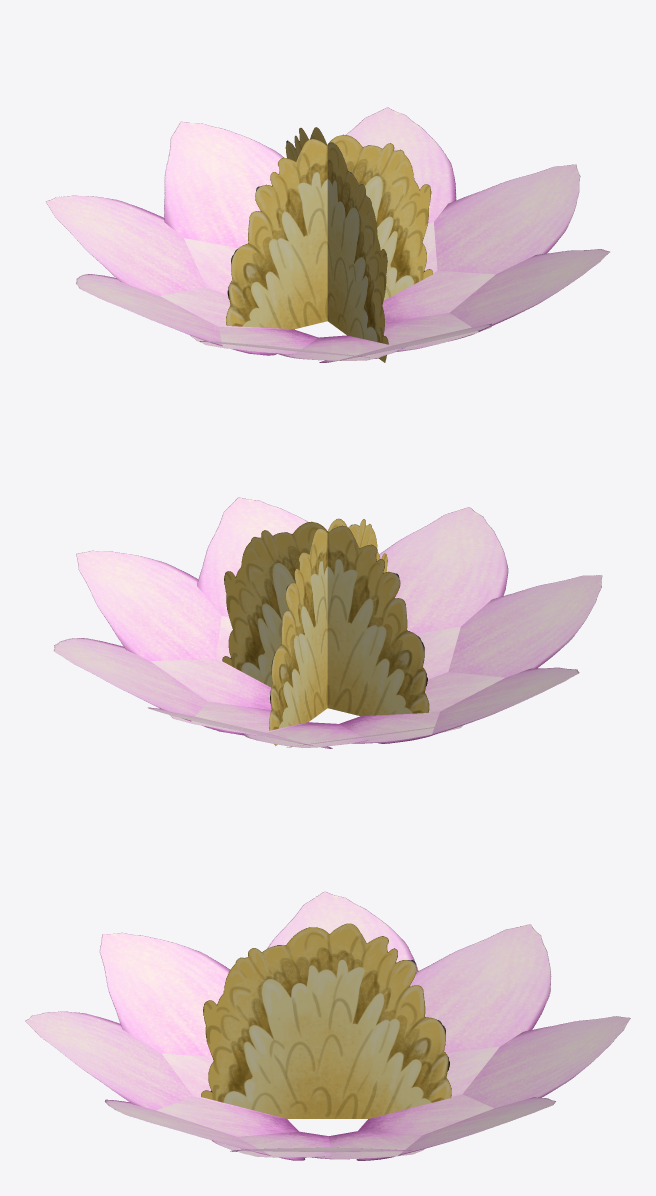
The model's file is lilypad.fbx.
3 views of the same model, one above another, from view 1: azimuth 30°, elevation 25°; view 2: azimuth 150°, elevation 25°; view 3: azimuth 270°, elevation 25° (orthographic). The views are drawn at different scales.
Visible parts, largest first — view 1: flower; view 2: flower; view 3: flower.
Boxes of the visible parts, x1=… form: flower: x1=45, y1=107, x2=609, y2=362; flower: x1=53, y1=497, x2=602, y2=748; flower: x1=25, y1=891, x2=630, y2=1160.
Size of what is drawn, in the model's own units: 13.08 by 6.16 by 13.08.
